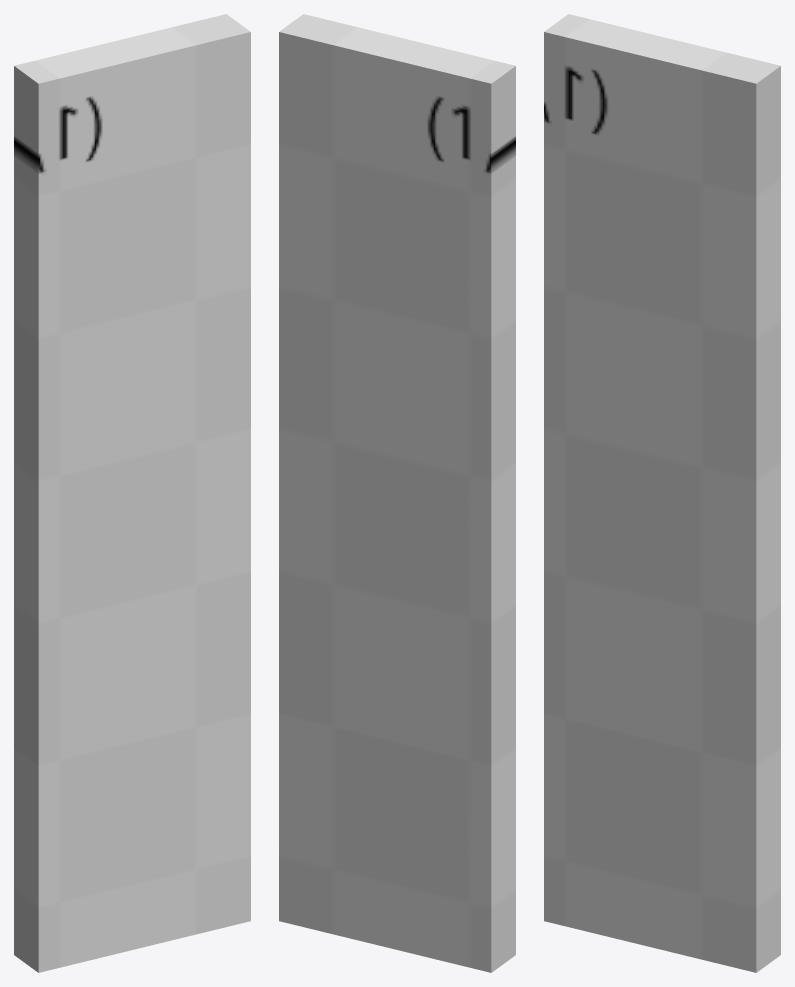
Rendered from enginehall_end_wall_tiny_round.fbx.
The picture shows the model from 3 angles, left to right: view 1: azimuth 30°, elevation 25°; view 2: azimuth 150°, elevation 25°; view 3: azimuth 330°, elevation 25°; orthographic projection.
Parts seen in each view (by area): view 1: enginehall_end_wall_tiny_round; view 2: enginehall_end_wall_tiny_round; view 3: enginehall_end_wall_tiny_round.
Part boxes in pixels (x1,y1,x2,y2): enginehall_end_wall_tiny_round: (14, 14, 250, 972); enginehall_end_wall_tiny_round: (279, 14, 515, 972); enginehall_end_wall_tiny_round: (544, 14, 780, 972).
Size of the model in its own units: 100 by 400 by 20.
